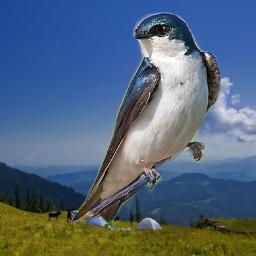Swallow: (71, 10, 222, 225)
